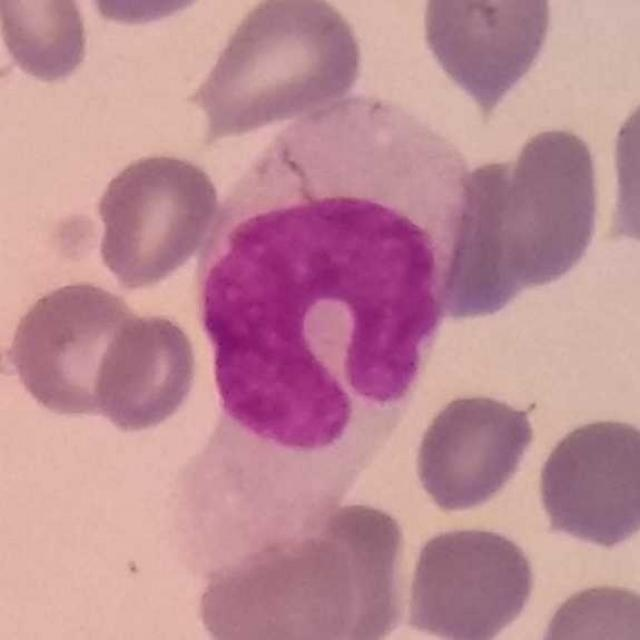Monocyte: (191, 81, 471, 567)
RBC: (440, 119, 610, 303), (184, 0, 368, 136), (4, 275, 160, 422), (90, 146, 224, 292), (190, 531, 362, 640), (286, 496, 414, 639), (410, 388, 540, 518), (401, 520, 540, 640), (415, 0, 559, 109), (532, 411, 640, 552), (88, 308, 203, 436), (0, 0, 95, 88), (600, 80, 640, 259), (532, 576, 640, 640), (68, 0, 225, 30)
